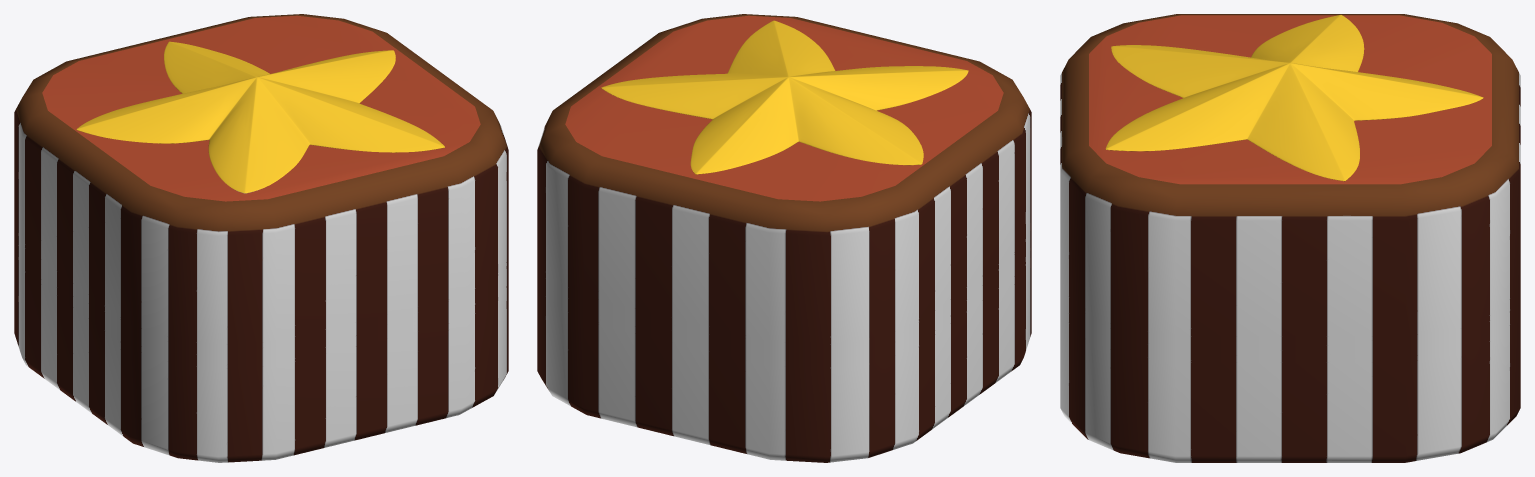
The model's file is SevenModel.fbx.
The picture shows the model from 3 angles, left to right: view 1: azimuth 30°, elevation 25°; view 2: azimuth 150°, elevation 25°; view 3: azimuth 270°, elevation 25°; orthographic projection. The views are drawn at different scales.
Visible parts, largest first — view 1: di1, polySurface1; view 2: di1, polySurface1; view 3: di1, polySurface1.
Boxes of the visible parts, box(x1,y1,x2,y2) form: di1: box(14, 14, 508, 462); polySurface1: box(76, 41, 444, 193); di1: box(537, 14, 1031, 462); polySurface1: box(601, 20, 968, 174); di1: box(1060, 14, 1520, 462); polySurface1: box(1105, 15, 1483, 181).
Size of the model in its own units: 3.23 by 2.39 by 3.25.
1 material, 1 textured.
